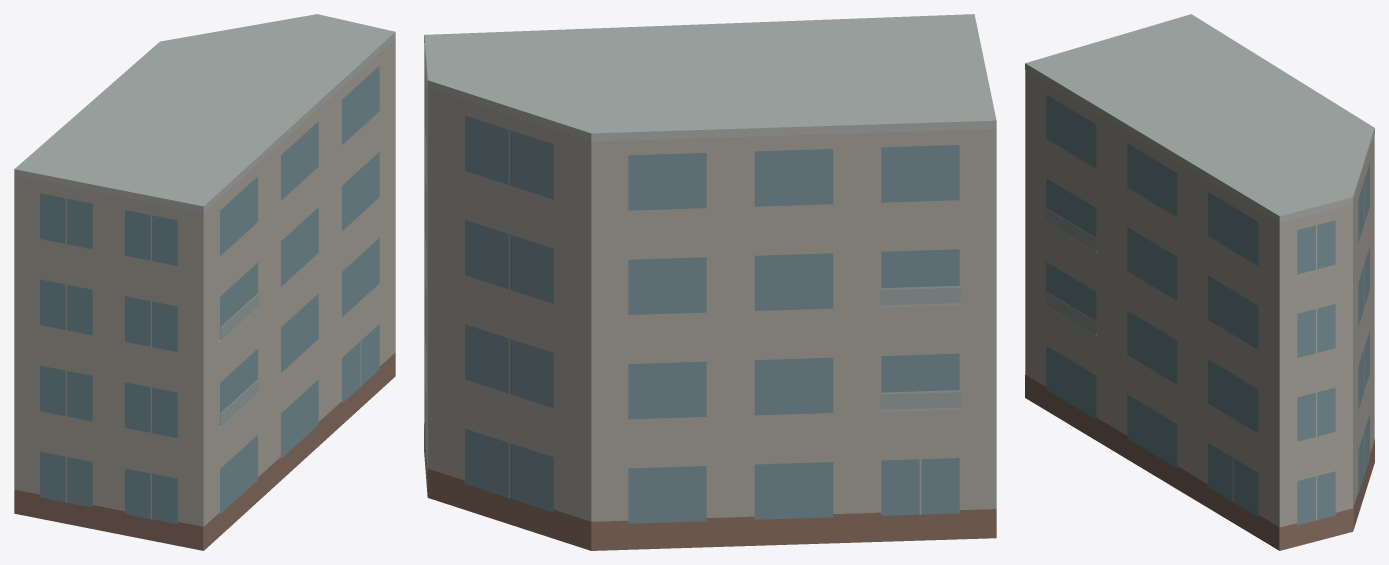
Rendered from survey-upis-32805089.glb.
The picture shows the model from 3 angles, left to right: view 1: azimuth 30°, elevation 25°; view 2: azimuth 150°, elevation 25°; view 3: azimuth 270°, elevation 25°; orthographic projection. The views are drawn at different scales.
Visible parts, largest first — view 1: survey-upis-32805089.tmp; view 2: survey-upis-32805089.tmp; view 3: survey-upis-32805089.tmp.
Part boxes in pixels (left/top/right/bottom): survey-upis-32805089.tmp: left=14, top=14, right=395, bottom=550; survey-upis-32805089.tmp: left=424, top=14, right=996, bottom=550; survey-upis-32805089.tmp: left=1025, top=14, right=1374, bottom=550.
Bounding box in the file's own units: 16.09 × 12.4 × 11.75.
